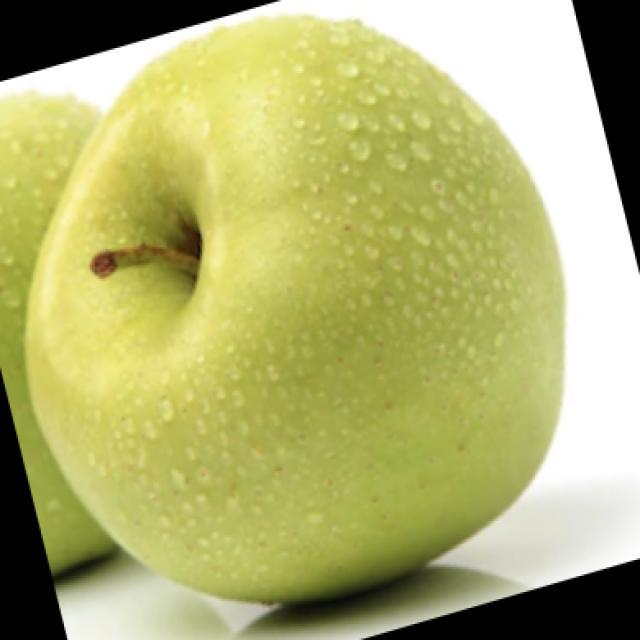Fresh Apple: (28, 17, 565, 613)
